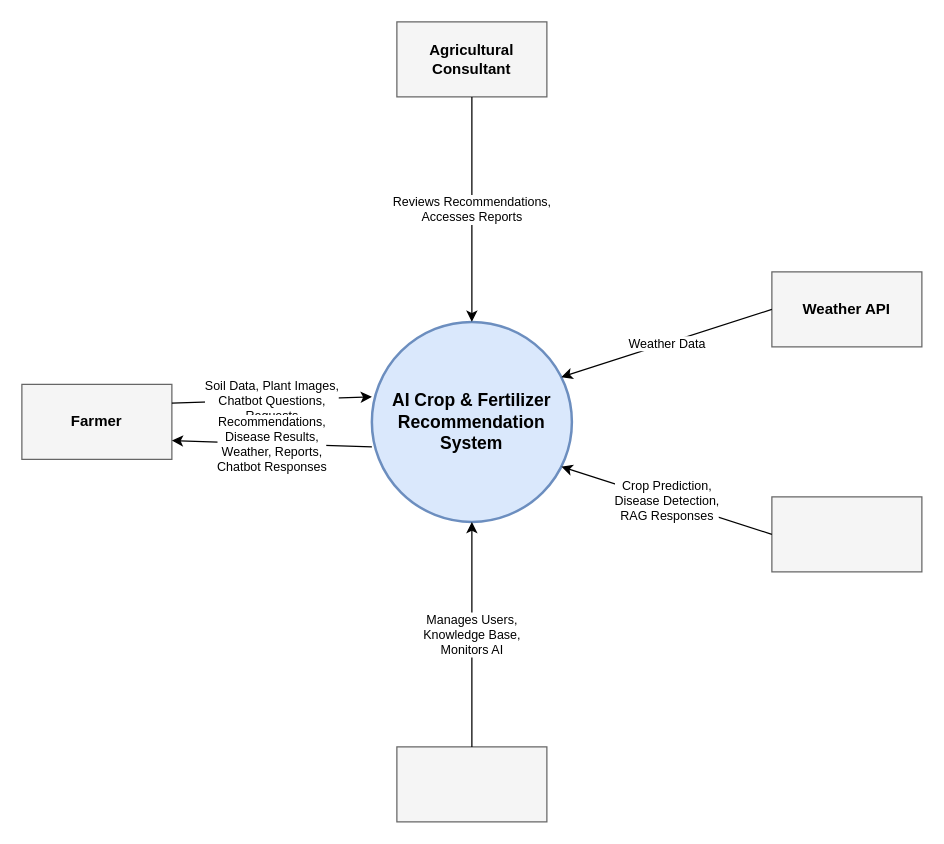
The diagram is 944 pixels wide and 844 high, and some of its shapes have lost their labels. The centre of each missing label's shape, as x and y in pixels:
Admin: [471,784]
AI Services: [846,534]
